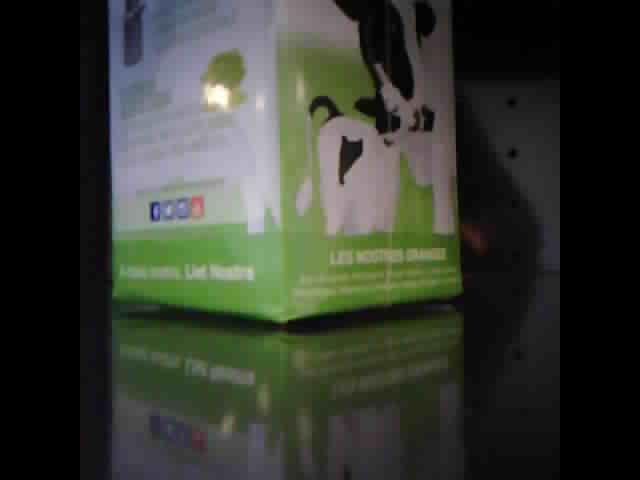leche: (111, 2, 462, 325)
